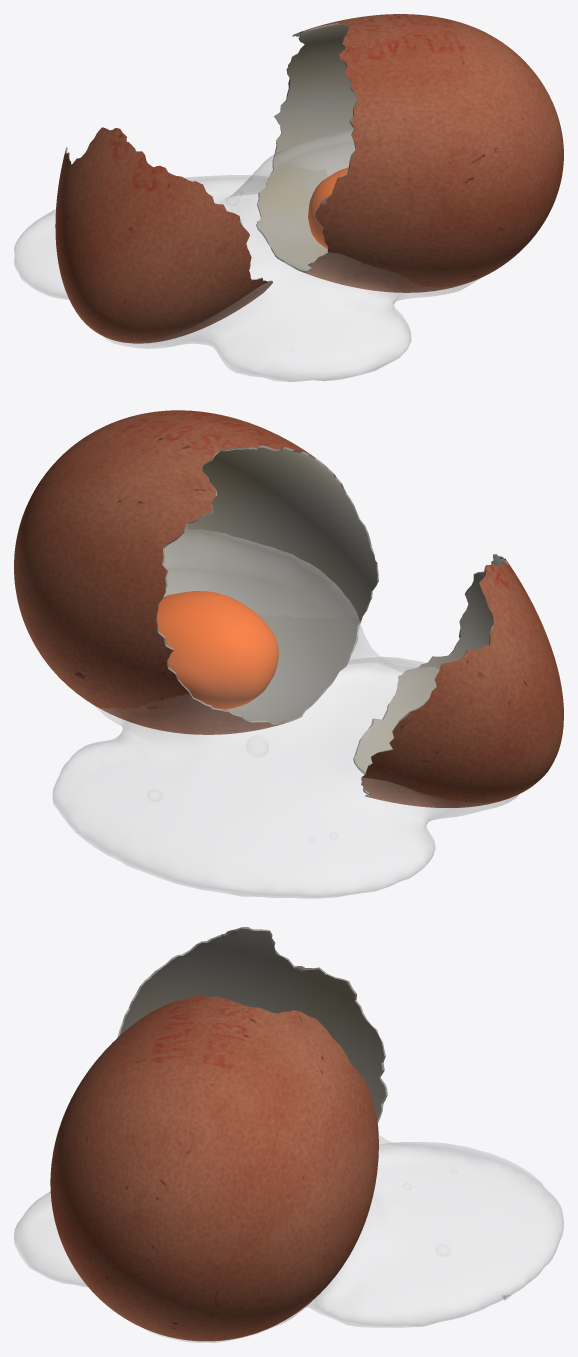
3 views of the same model, one above another, from view 1: azimuth 30°, elevation 25°; view 2: azimuth 150°, elevation 25°; view 3: azimuth 270°, elevation 25° (orthographic). The views are drawn at different scales.
Visible parts, largest first — view 1: Bake_target, blanc, Bake_target.001, jaune; view 2: blanc, Bake_target, Bake_target.001, jaune; view 3: Bake_target, blanc, Bake_target.001.
Boxes of the visible parts, bbox=[...] form: Bake_target: bbox=[256, 14, 563, 292]; blanc: bbox=[14, 128, 480, 381]; Bake_target.001: bbox=[55, 127, 272, 343]; jaune: bbox=[308, 167, 348, 249]; blanc: bbox=[53, 529, 518, 898]; Bake_target: bbox=[14, 410, 378, 734]; Bake_target.001: bbox=[353, 554, 563, 807]; jaune: bbox=[157, 591, 278, 709]; Bake_target: bbox=[50, 995, 378, 1341]; blanc: bbox=[14, 1135, 563, 1342]; Bake_target.001: bbox=[117, 927, 387, 1123].
Size of what is drawn, in the model's own units: 3.81 by 2.02 by 3.42.
6 materials, 2 textured.
